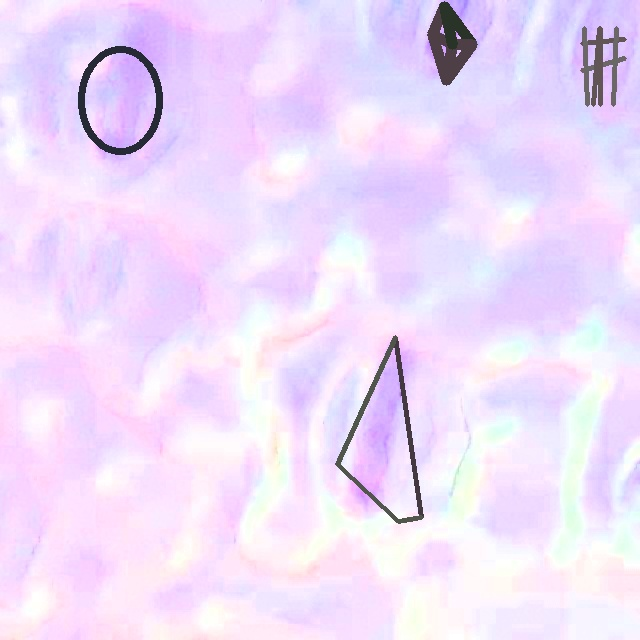open: (335, 335, 423, 523), (77, 44, 163, 155), (427, 2, 477, 85), (580, 27, 626, 105)
